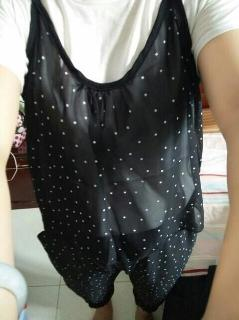sling dress: (20, 0, 205, 275)
trousers: (45, 223, 204, 313)
